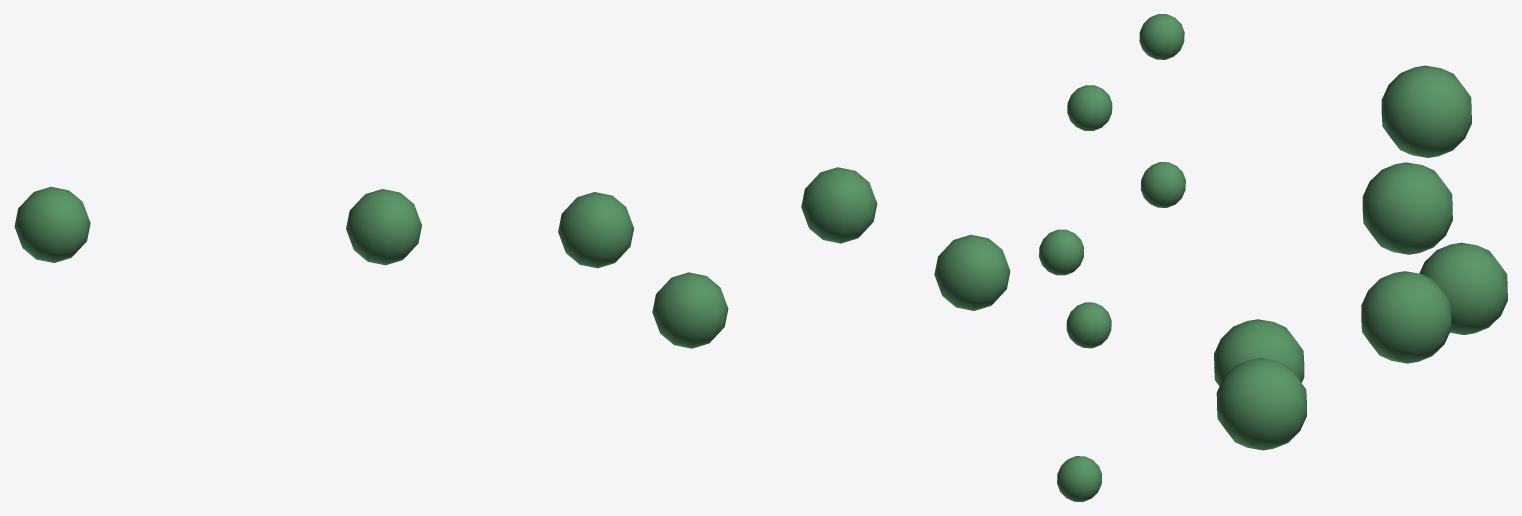
The picture shows the model from 3 angles, left to right: view 1: azimuth 30°, elevation 25°; view 2: azimuth 150°, elevation 25°; view 3: azimuth 330°, elevation 25°; orthographic projection. The views are drawn at different scales.
Visible parts, largest first — view 1: 右侧肘淋巴结; view 2: 右侧肘淋巴结; view 3: 右侧肘淋巴结.
Boxes of the visible parts, x1=… form: 右侧肘淋巴结: x1=14, y1=167, x2=1010, y2=348; 右侧肘淋巴结: x1=1039, y1=14, x2=1185, y2=501; 右侧肘淋巴结: x1=1214, y1=65, x2=1507, y2=450.
Bounding box in the file's own units: 0.0264 × 0.0172 × 0.0566.
